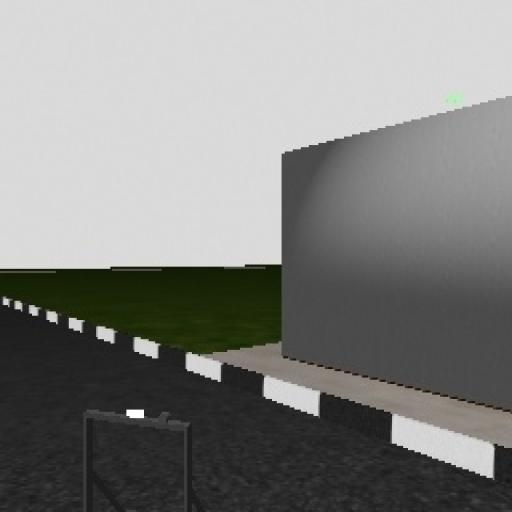huskya200: (73, 394, 212, 512)
